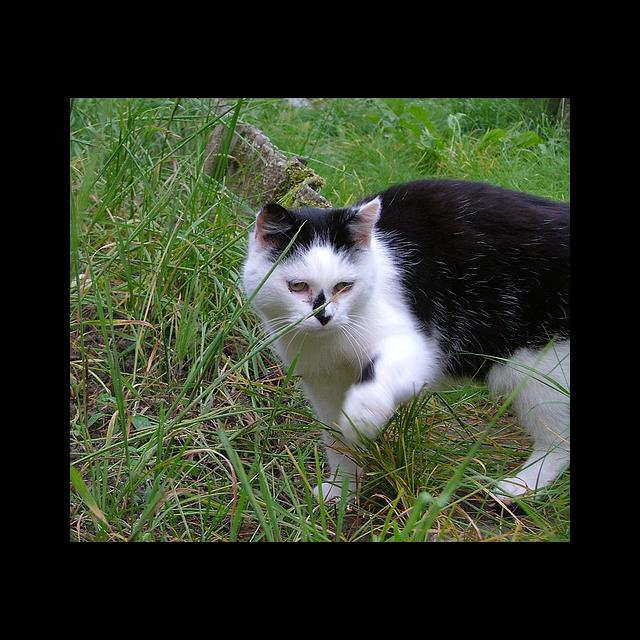animals: (257, 197, 378, 324)
